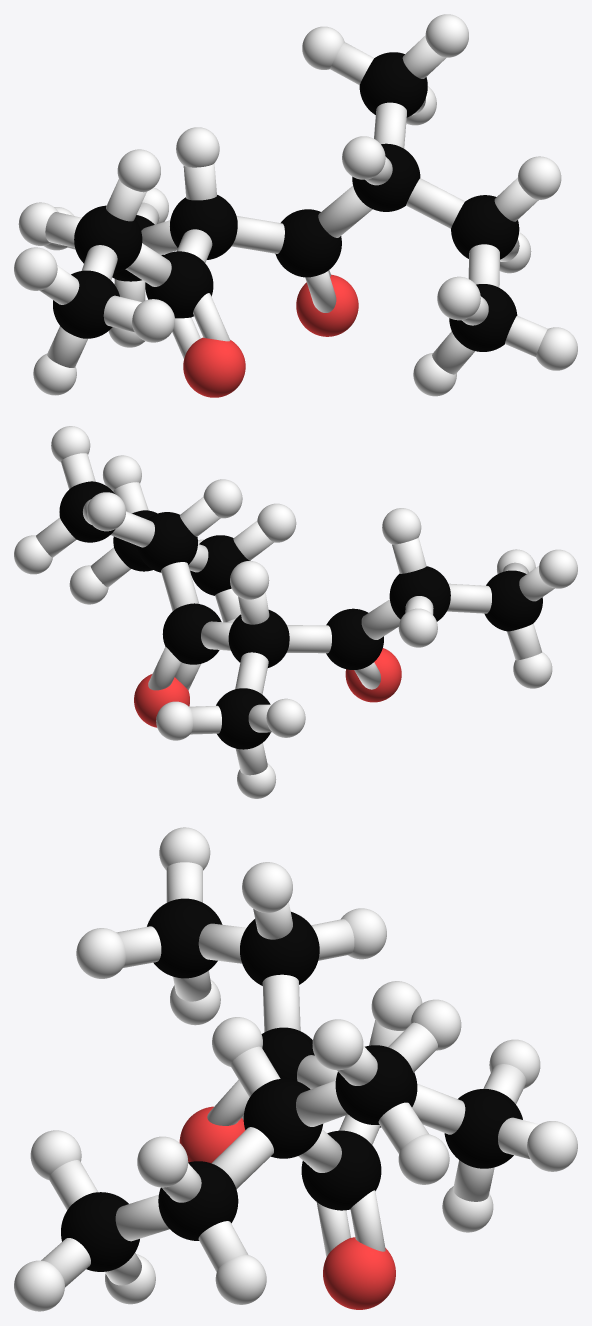
3 views of the same model, one above another, from view 1: azimuth 30°, elevation 25°; view 2: azimuth 150°, elevation 25°; view 3: azimuth 270°, elevation 25° (orthographic). The views are drawn at different scales.
Parts seen in each view (by area): view 1: molecule; view 2: molecule; view 3: molecule.
Boxes of the visible parts, x1,y1,x2,y2 form: molecule: (14,14,577,397); molecule: (14,426,577,798); molecule: (14,827,577,1311).
Size of the model in its own units: 8.52 by 4.65 by 6.64.
